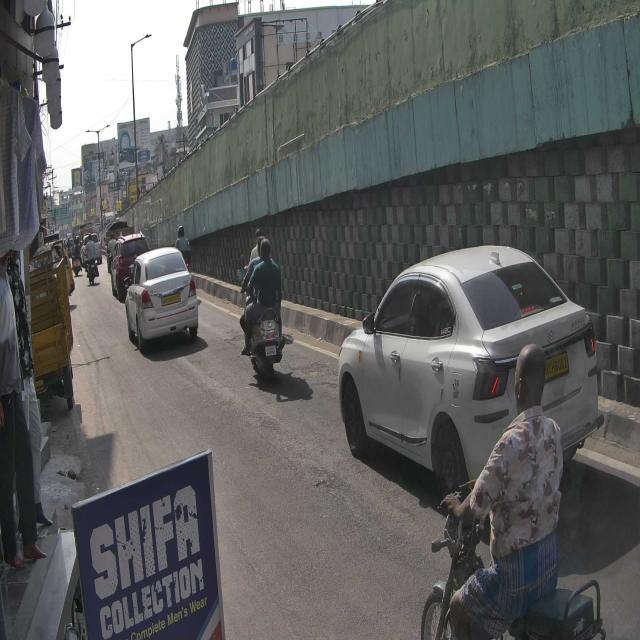single_rider: (419, 345, 613, 640)
